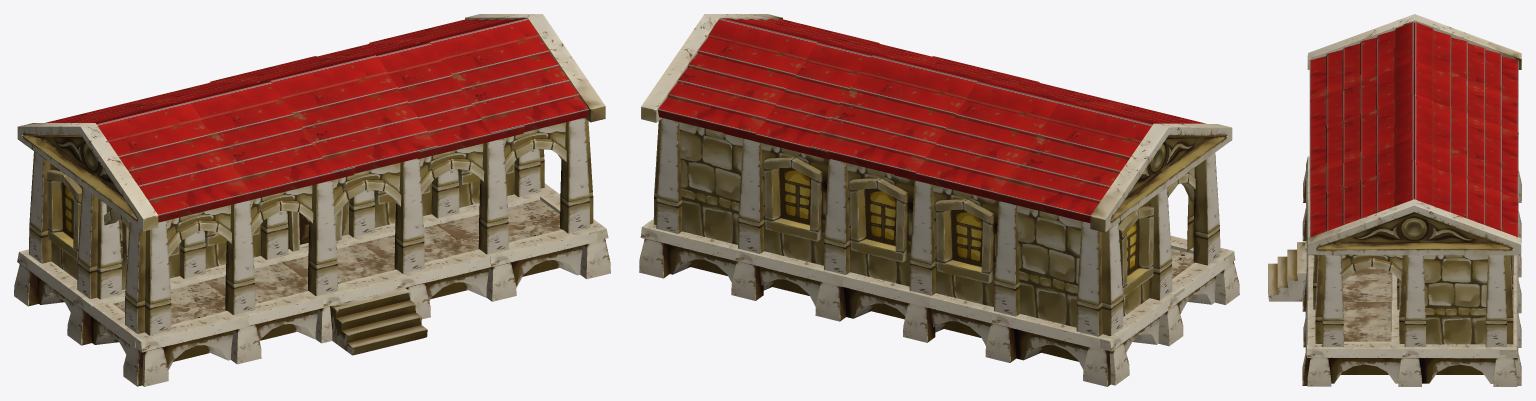
The model's file is Rome_Village_Buildings_09.FBX.
3 views of the same model, side by side, from view 1: azimuth 30°, elevation 25°; view 2: azimuth 150°, elevation 25°; view 3: azimuth 270°, elevation 25° (orthographic). The views are drawn at different scales.
Visible parts, largest first — view 1: Rome_Village_Buildings_09; view 2: Rome_Village_Buildings_09; view 3: Rome_Village_Buildings_09.
Part boxes in pixels (x1,y1,x2,y2): Rome_Village_Buildings_09: (14, 14, 610, 386); Rome_Village_Buildings_09: (639, 14, 1239, 386); Rome_Village_Buildings_09: (1268, 14, 1521, 386).
Bounding box in the file's own units: 1239 × 529 × 677.
